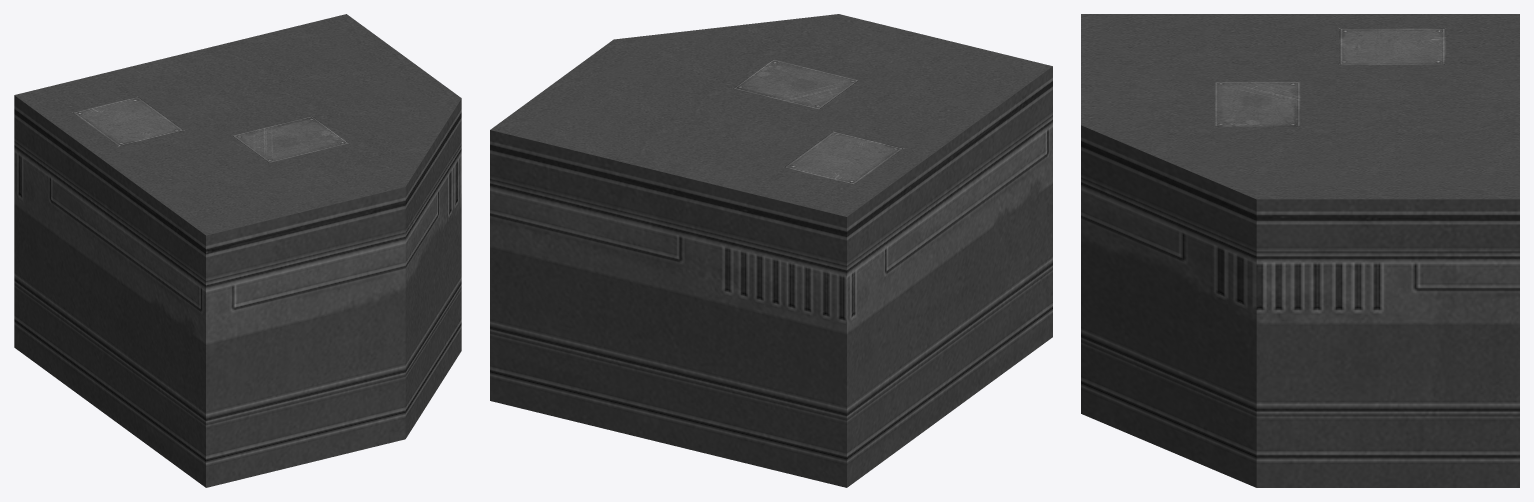
Rendered from Map_Platform_Angle_Ext.fbx.
The picture shows the model from 3 angles, left to right: view 1: azimuth 30°, elevation 25°; view 2: azimuth 150°, elevation 25°; view 3: azimuth 270°, elevation 25°; orthographic projection. The views are drawn at different scales.
Visible parts, largest first — view 1: Map_Platform_Angle_Ext; view 2: Map_Platform_Angle_Ext; view 3: Map_Platform_Angle_Ext.
Part boxes in pixels (<box>): Map_Platform_Angle_Ext: <box>14,14,461,487</box>; Map_Platform_Angle_Ext: <box>490,14,1052,487</box>; Map_Platform_Angle_Ext: <box>1081,14,1519,487</box>.
Bounding box in the file's own units: 620 × 450 × 620.
Materials: 1 (1 with a texture image).
